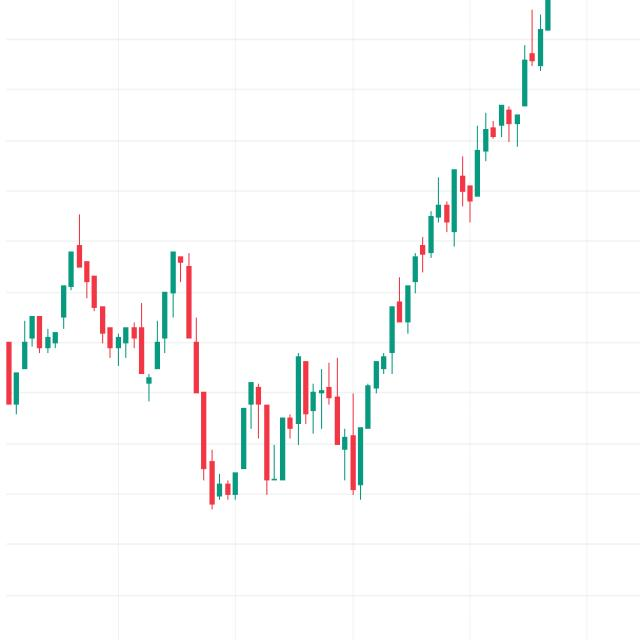Triple-Bottom: (178, 349, 401, 518)
